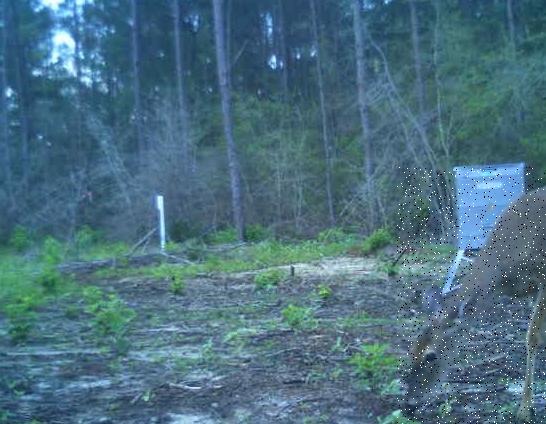Deer: (397, 167, 546, 424)
